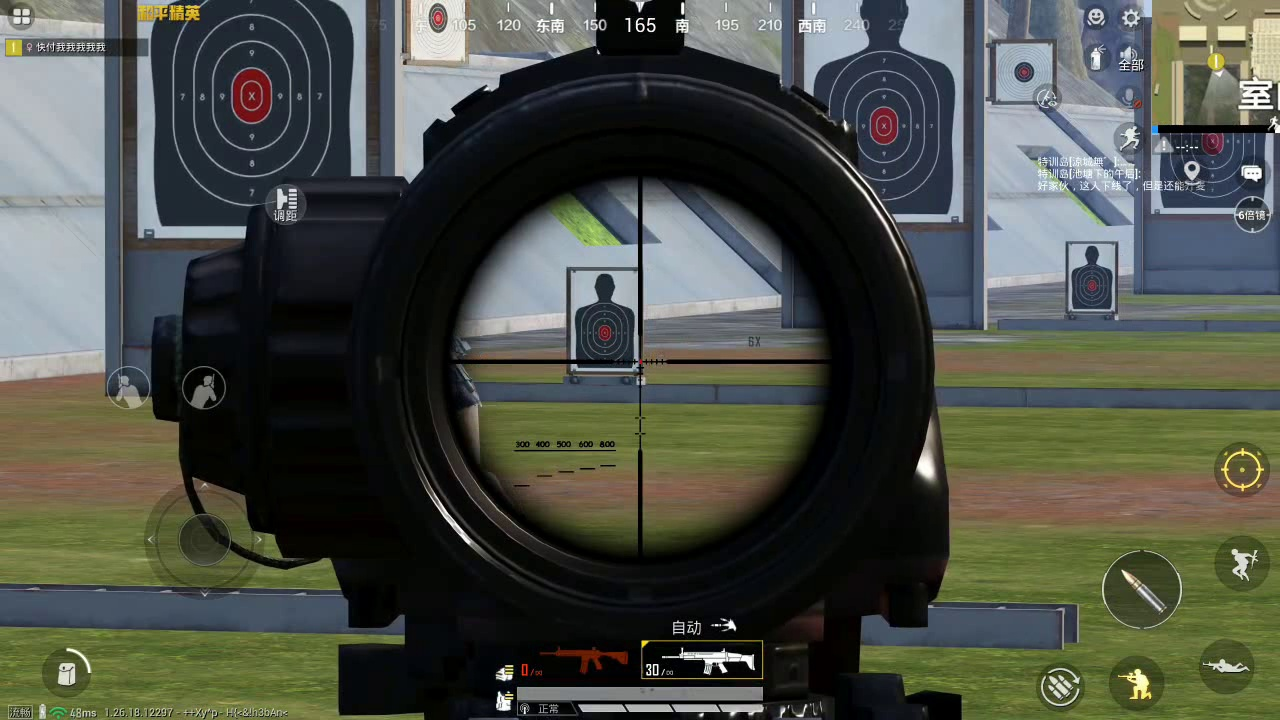enemy: (434, 325, 506, 492)
